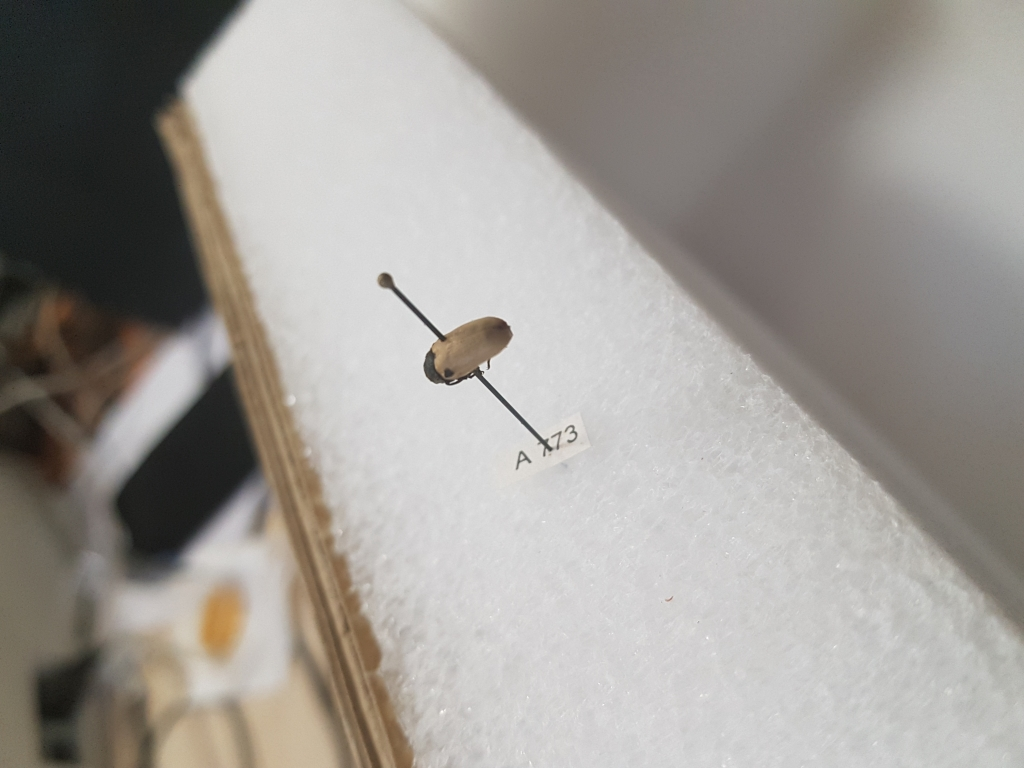Labidostomis_propinqua: (413, 313, 514, 392)
